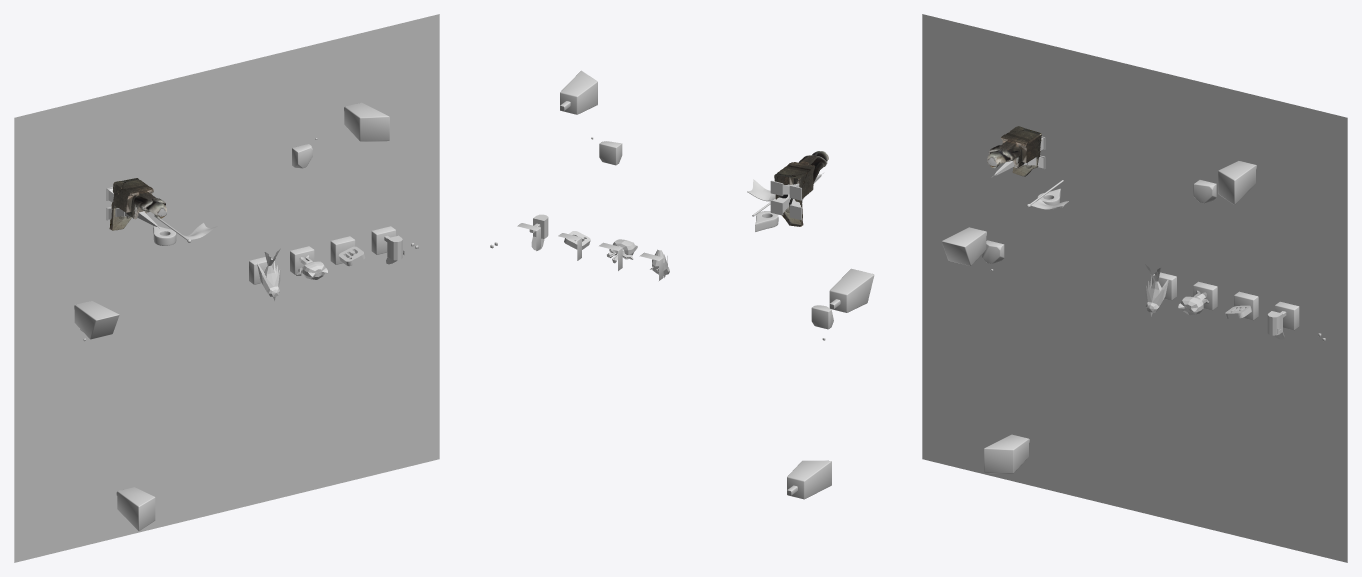
3 views of the same model, side by side, from view 1: azimuth 30°, elevation 25°; view 2: azimuth 150°, elevation 25°; view 3: azimuth 330°, elevation 25° (orthographic).
Visible parts, largest first — view 1: floor.008, shadeGreen.002, shadeGreen.011, shadeGreen.014, Object_3, shadeOrange.005, Object_4; view 2: shadeGreen.011, shadeGreen.014, shadeGreen.002, shadeGray.007, Object_2, Object_4; view 3: floor.008, shadeGreen.014, shadeGreen.011, shadeGreen.002, Object_2, shadeOrange.005, Object_4.
Boxes of the visible parts, x1,y1,x2,y2 form: floor.008: [14, 14, 439, 562]; shadeGreen.002: [344, 102, 389, 141]; shadeGreen.011: [74, 301, 119, 339]; shadeGreen.014: [117, 487, 155, 530]; Object_3: [110, 178, 166, 229]; shadeOrange.005: [257, 248, 280, 300]; Object_4: [112, 180, 166, 230]; shadeGreen.011: [829, 268, 874, 312]; shadeGreen.014: [787, 460, 831, 499]; shadeGreen.002: [560, 70, 597, 114]; shadeGray.007: [770, 173, 823, 219]; Object_2: [774, 152, 818, 219]; Object_4: [775, 151, 828, 226]; floor.008: [922, 14, 1347, 562]; shadeGreen.014: [984, 434, 1028, 473]; shadeGreen.011: [941, 227, 986, 265]; shadeGreen.002: [1218, 161, 1255, 204]; Object_2: [993, 126, 1041, 173]; shadeOrange.005: [1145, 264, 1168, 316]; Object_4: [987, 126, 1040, 176].
Bounding box in the file's own units: 25 × 25 × 4.04.
Materials: 5 (3 with a texture image).
